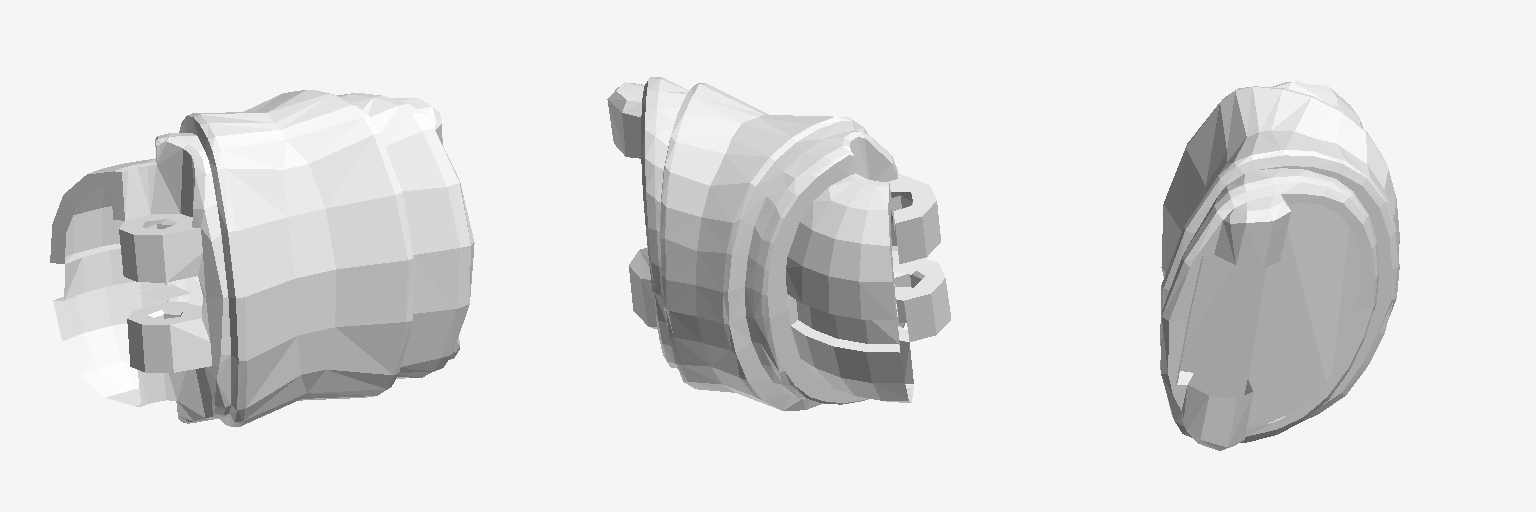
3 renders of one model, left to right at view 1: azimuth 30°, elevation 25°; view 2: azimuth 150°, elevation 25°; view 3: azimuth 270°, elevation 25°, orthographic.
Parts seen in each view (by area): view 1: LFinger21_LPhalax_4; view 2: LFinger21_LPhalax_4; view 3: LFinger21_LPhalax_4.
Boxes of the visible parts, x1,y1,x2,y2 form: LFinger21_LPhalax_4: [50, 90, 474, 426]; LFinger21_LPhalax_4: [607, 77, 950, 410]; LFinger21_LPhalax_4: [1160, 81, 1399, 450].
Size of the model in its own units: 0.1938 by 0.1588 by 0.1204.
1 materials, 1 textured.